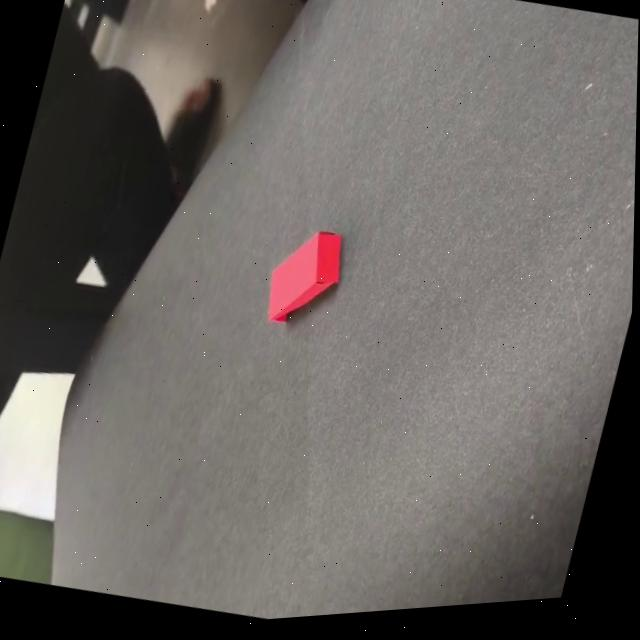red block: (258, 216, 351, 335)
